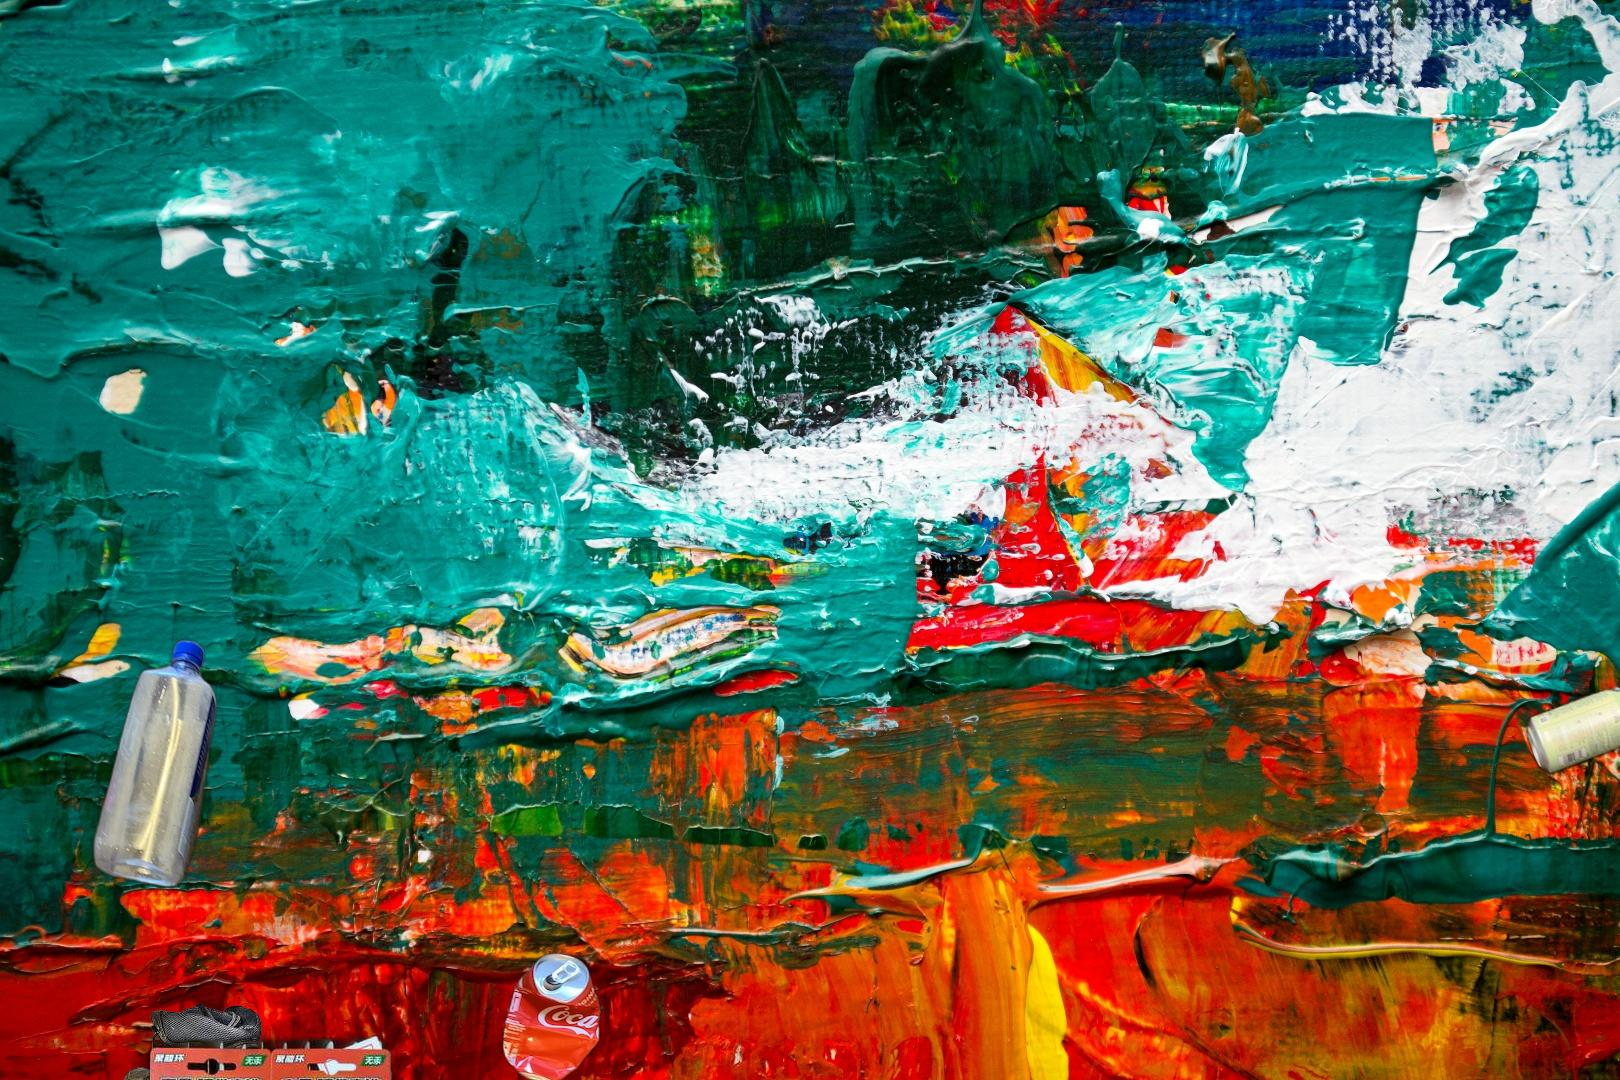battery: (127, 1016, 416, 1080)
metal-cans: (498, 947, 606, 1080), (1522, 682, 1620, 781)
plastic-bottles: (88, 634, 222, 899)
shoes: (115, 1000, 275, 1080)
